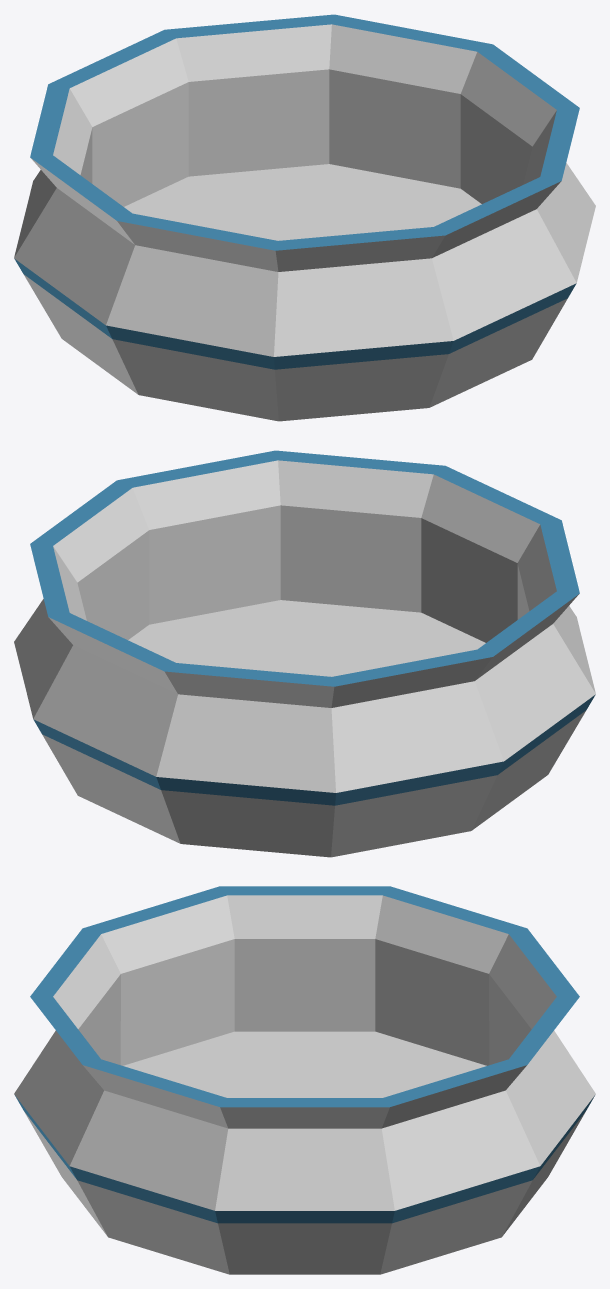
Rendered from white bowl w blue.fbx.
3 renders of one model, top to bottom at view 1: azimuth 30°, elevation 25°; view 2: azimuth 150°, elevation 25°; view 3: azimuth 270°, elevation 25°, orthographic. The views are drawn at different scales.
Visible parts, largest first — view 1: Fancy Bowl; view 2: Fancy Bowl; view 3: Fancy Bowl.
Part boxes in pixels (bbox=[...]): Fancy Bowl: bbox=[14, 14, 595, 421]; Fancy Bowl: bbox=[14, 450, 595, 857]; Fancy Bowl: bbox=[14, 886, 595, 1274].
Bounding box in the file's own units: 94.74 × 40.55 × 99.62.
